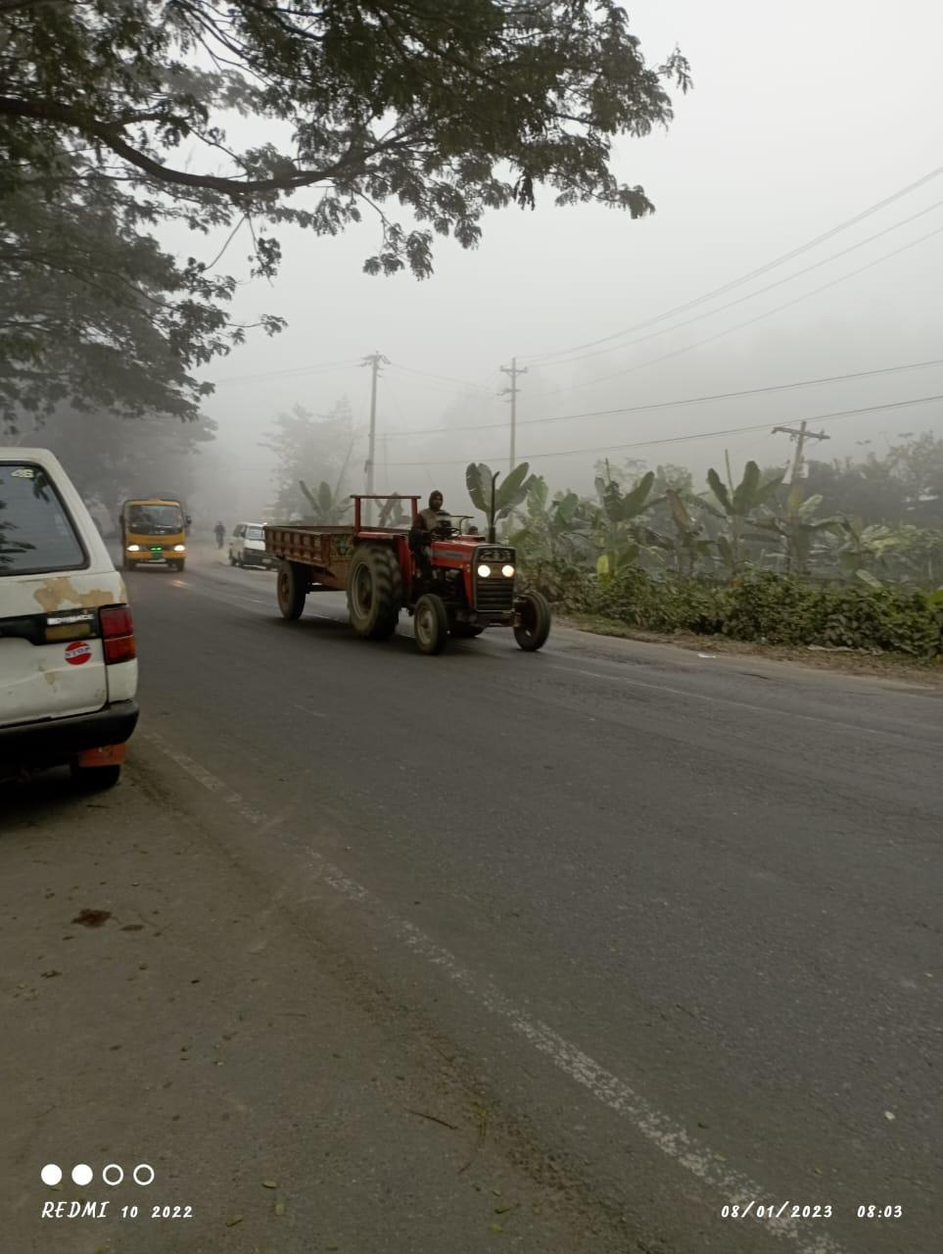Car: (2, 436, 155, 803), (224, 516, 279, 569)
Truck: (253, 485, 560, 658), (118, 489, 192, 575)
